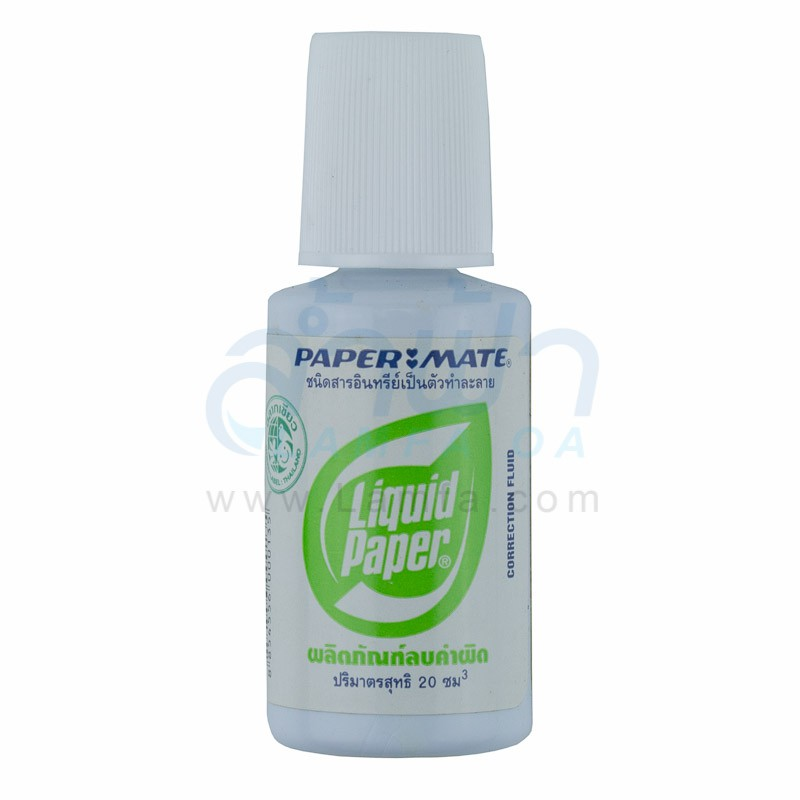Correction_fluid: (253, 22, 546, 763)
